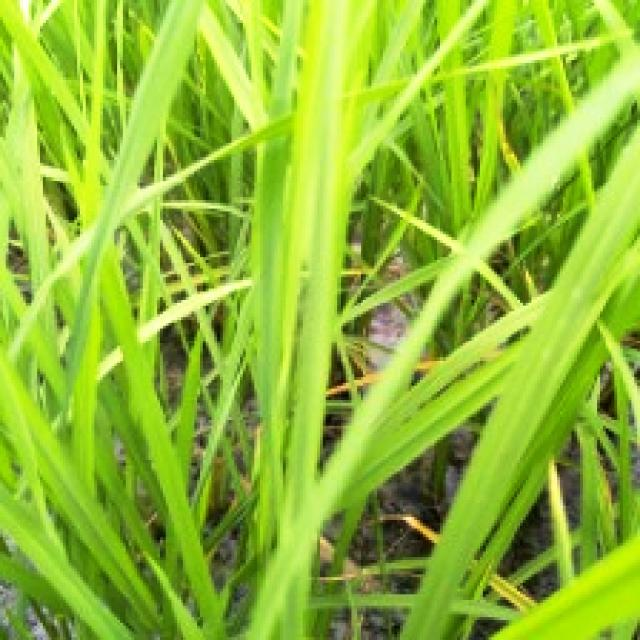health: (264, 4, 409, 612)
